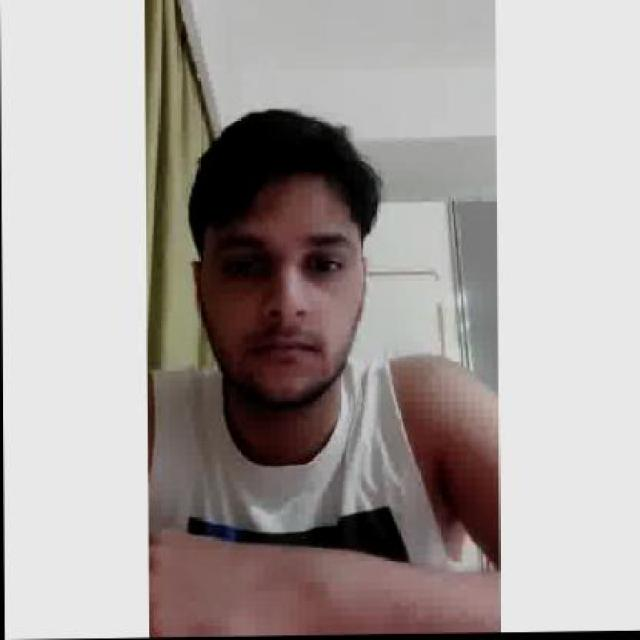attentif: (189, 110, 368, 410)
